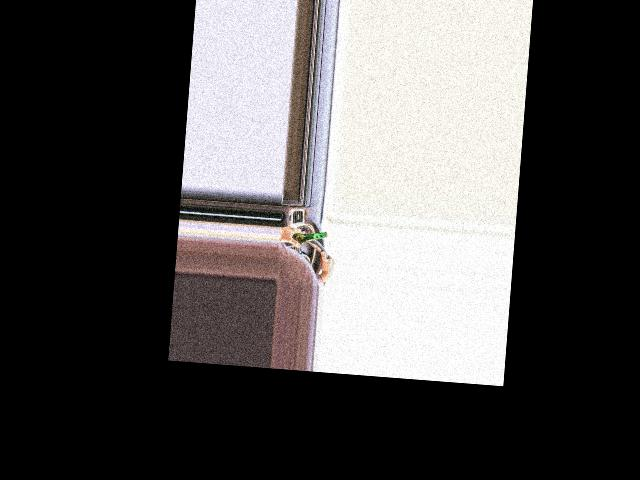beer: (282, 228, 327, 250)
